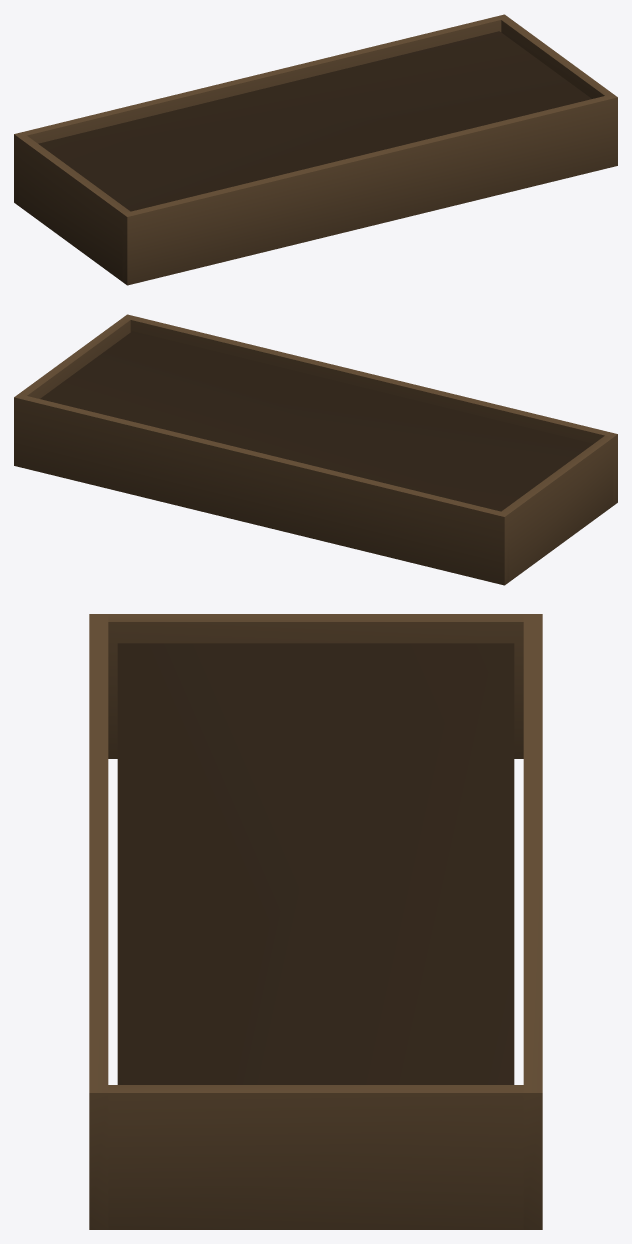
File: struct_raised_bed.glb
The picture shows the model from 3 angles, top to bottom: view 1: azimuth 30°, elevation 25°; view 2: azimuth 150°, elevation 25°; view 3: azimuth 270°, elevation 25°; orthographic projection. The views are drawn at different scales.
Parts seen in each view (by area): view 1: frame, soil; view 2: frame, soil; view 3: soil, frame.
Part boxes in pixels (x1,y1,x2,y2): frame: (14,14,617,285); soil: (38,31,591,211); frame: (14,314,617,585); soil: (40,331,593,511); soil: (117,643,514,1084); frame: (89,614,542,1229).
Size of the model in its own units: 3 by 0.4 by 1.2.
